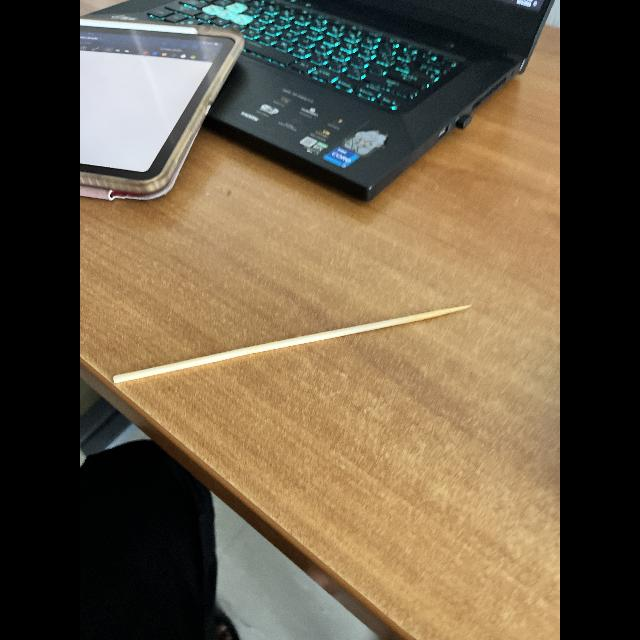stick: (100, 285, 478, 415)
